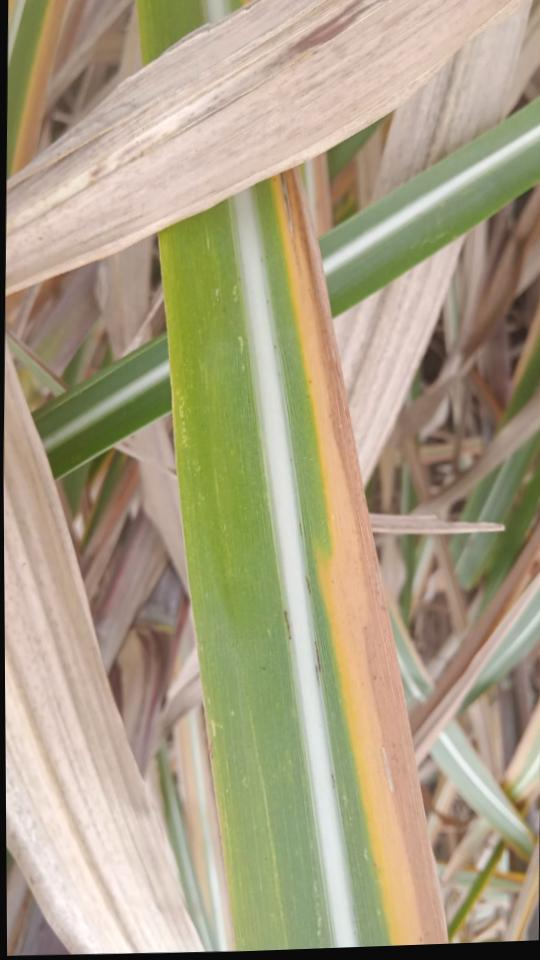Rust: (283, 610, 292, 640), (314, 641, 321, 671), (314, 663, 321, 687), (305, 575, 311, 594), (331, 773, 336, 789)
Yellow: (269, 172, 424, 946)
